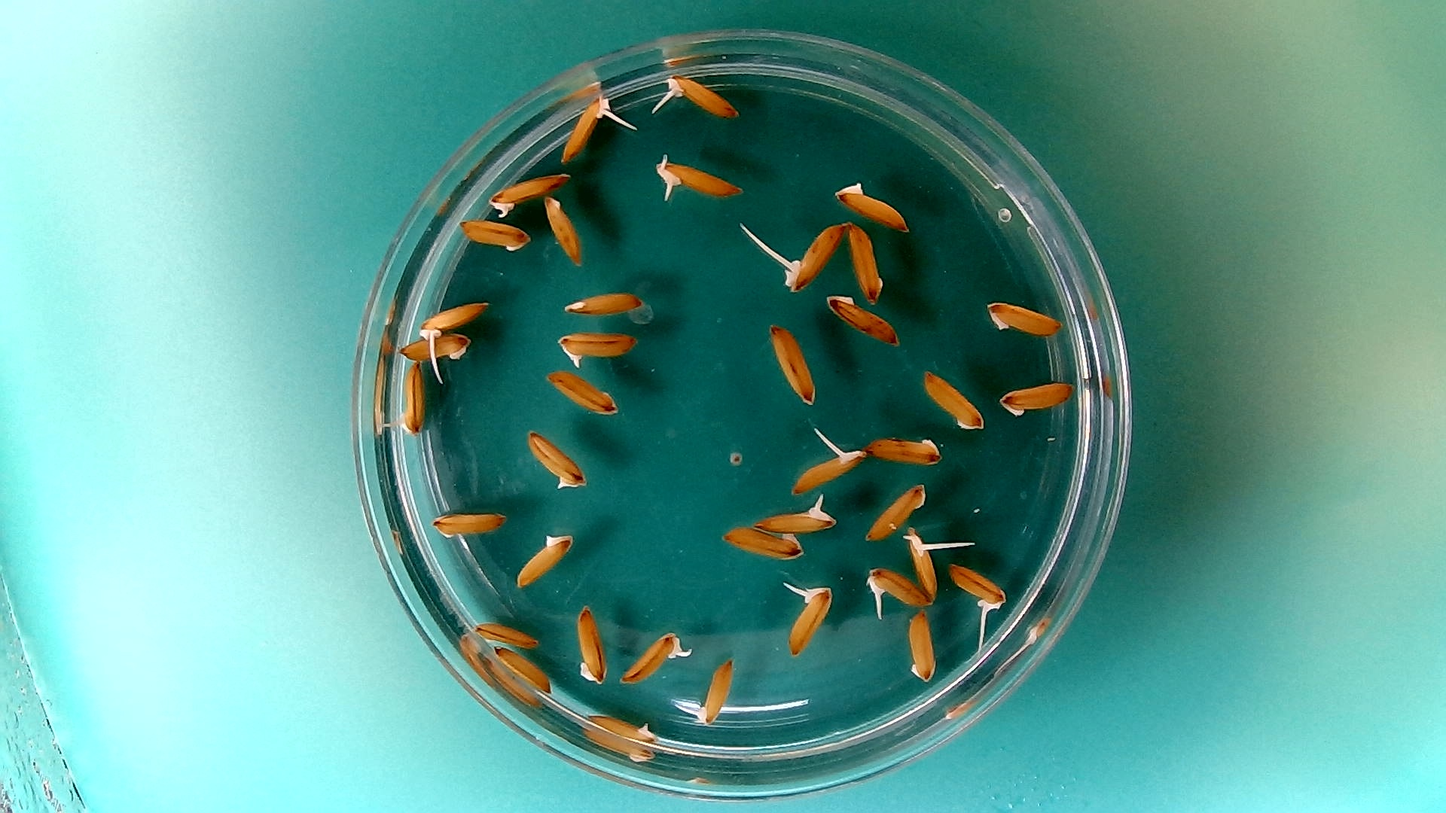no: (821, 290, 902, 348), (766, 321, 818, 407), (832, 176, 911, 232), (920, 367, 987, 432), (523, 426, 588, 493), (862, 482, 929, 543), (845, 220, 888, 312), (541, 367, 621, 416), (511, 529, 575, 590), (982, 297, 1063, 339), (719, 522, 806, 561), (560, 283, 651, 320), (996, 376, 1075, 418), (492, 641, 554, 693), (541, 192, 584, 266), (429, 507, 509, 546), (573, 602, 609, 687), (390, 357, 426, 439), (863, 431, 944, 467), (456, 216, 532, 254), (397, 330, 473, 365), (905, 607, 938, 685), (584, 709, 659, 743), (471, 617, 542, 650)
yes: (650, 152, 743, 202), (784, 219, 846, 294), (786, 437, 868, 493), (415, 297, 493, 355), (779, 577, 834, 658), (484, 167, 573, 217), (654, 70, 740, 120), (618, 627, 689, 686), (559, 92, 615, 163), (945, 560, 1008, 620), (744, 495, 837, 534), (688, 653, 737, 726), (556, 328, 638, 370), (903, 525, 947, 601), (863, 564, 932, 607)
